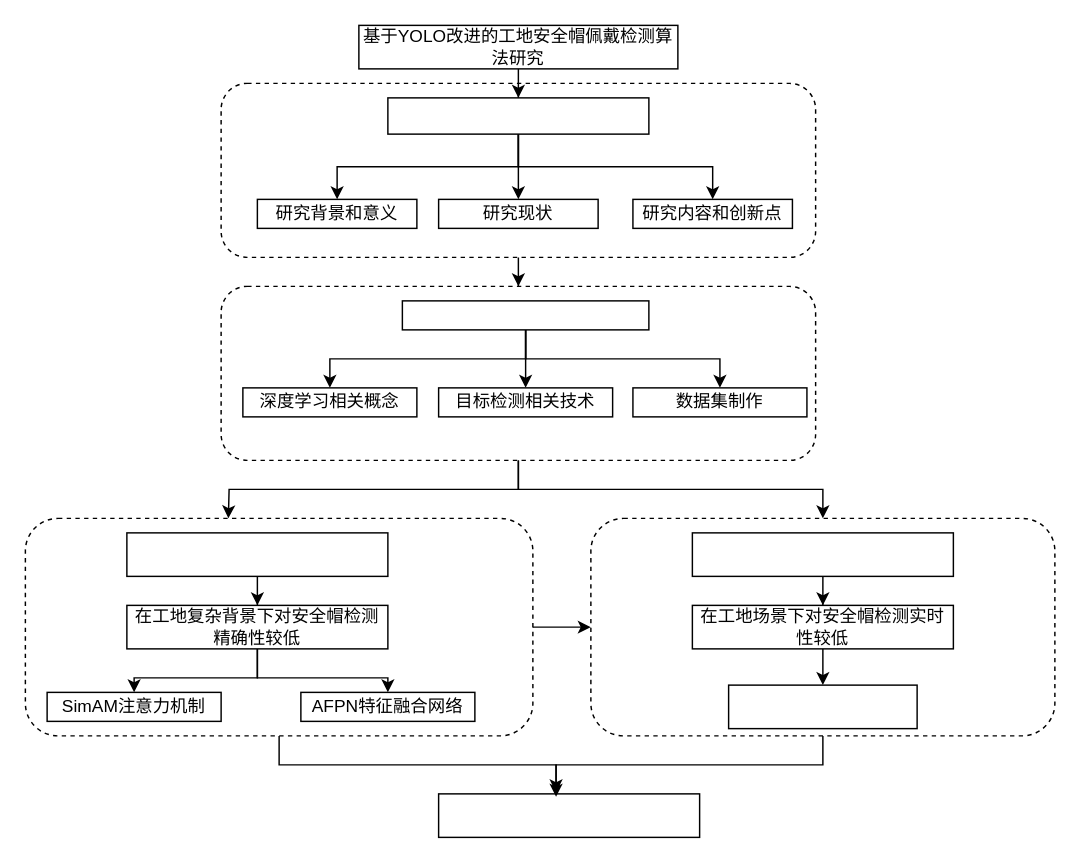
This 1080x863 diagram has some shape labels left out. The centre of each missing label's shape, as x and y in pixels:
GhostNet轻量化主干网络: point 822,706
基于轻量化改进的安全帽佩戴检测算法: point 822,553
总结与展望: point 568,814
相关概念和数据集构建: point 525,314
绪论: point 517,115
融合注意力机制和多尺度特征的安全帽佩戴检测算法: point 256,553
